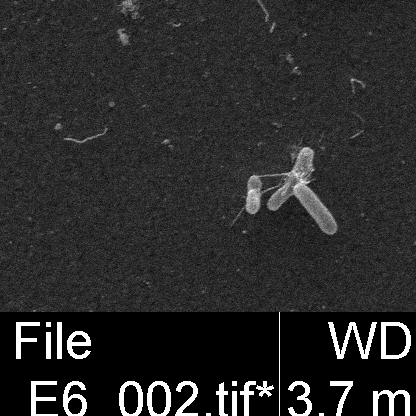cell2cell: (256, 180, 284, 199), (254, 169, 300, 180)
cell2surface: (230, 203, 247, 227)
regular: (268, 146, 315, 212), (292, 183, 338, 234), (246, 174, 261, 214)
